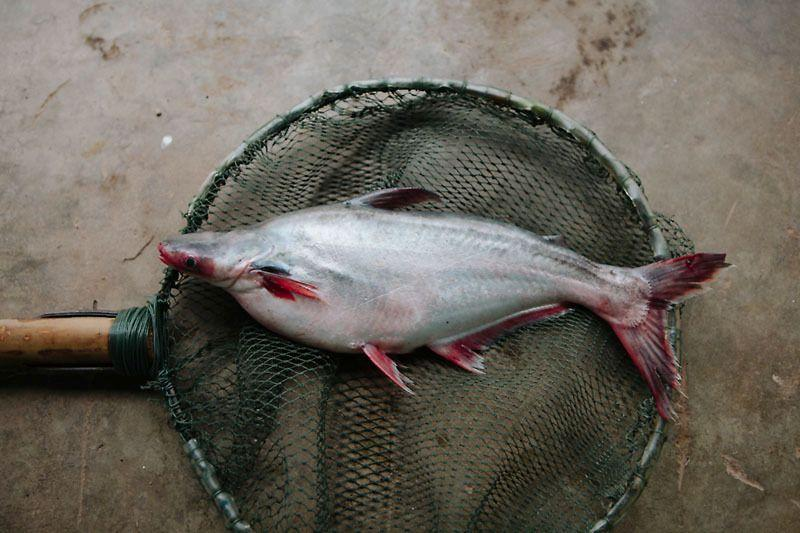Pangasius: (161, 184, 732, 430)
